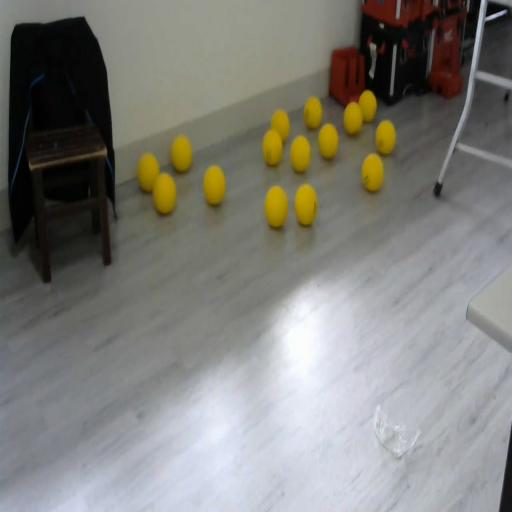FUEL: (264, 184, 288, 229), (294, 182, 317, 226), (202, 164, 226, 206), (153, 172, 176, 214), (361, 152, 384, 193), (170, 134, 194, 172), (137, 153, 159, 193), (317, 122, 339, 160), (290, 134, 311, 173), (375, 119, 396, 155), (270, 108, 290, 144), (343, 100, 363, 135), (358, 88, 377, 122), (304, 96, 322, 129)
